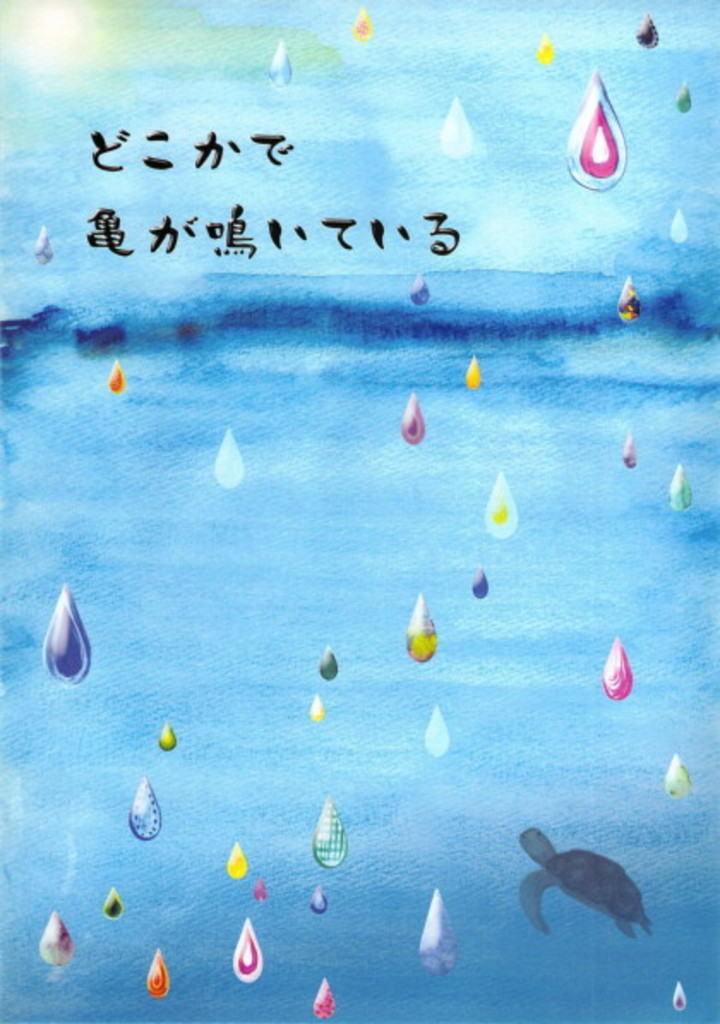Sea turtles: (514, 818, 654, 941)
